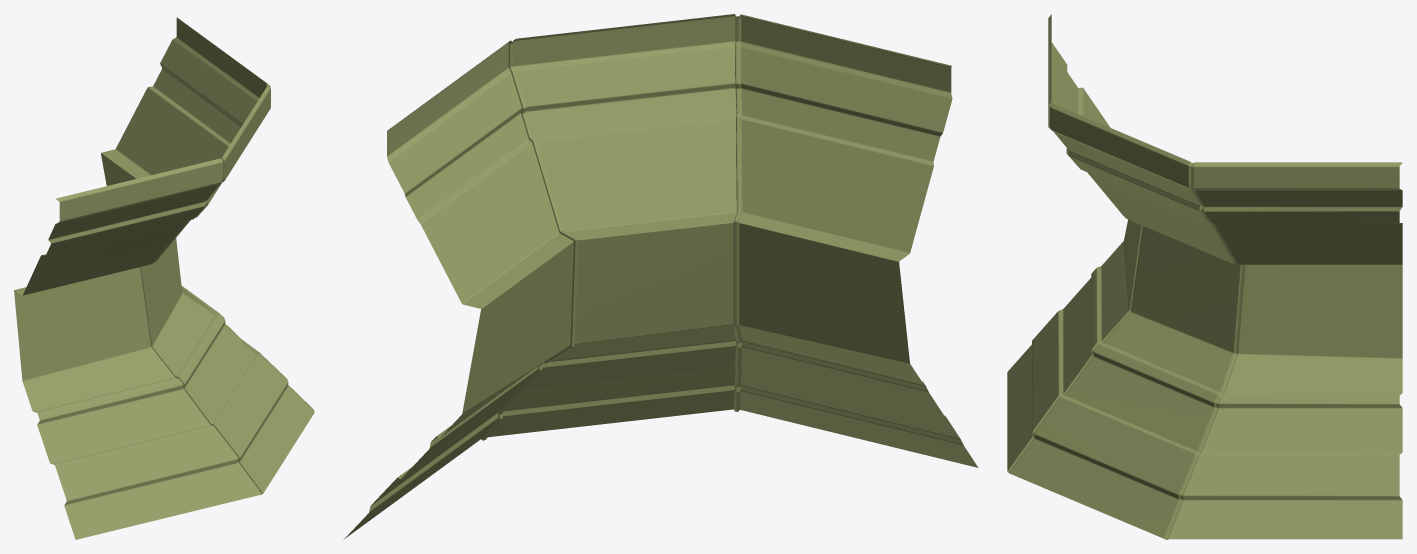
Rendered from CornerScifi.fbx.
The picture shows the model from 3 angles, left to right: view 1: azimuth 30°, elevation 25°; view 2: azimuth 150°, elevation 25°; view 3: azimuth 270°, elevation 25°; orthographic projection. The views are drawn at different scales.
Parts seen in each view (by area): view 1: Corner01; view 2: Corner01; view 3: Corner01.
Boxes of the visible parts, bbox=[...] form: Corner01: bbox=[14, 17, 314, 539]; Corner01: bbox=[343, 14, 978, 539]; Corner01: bbox=[1007, 14, 1402, 539].
Bounding box in the file's own units: 5097 × 5113 × 5097.
